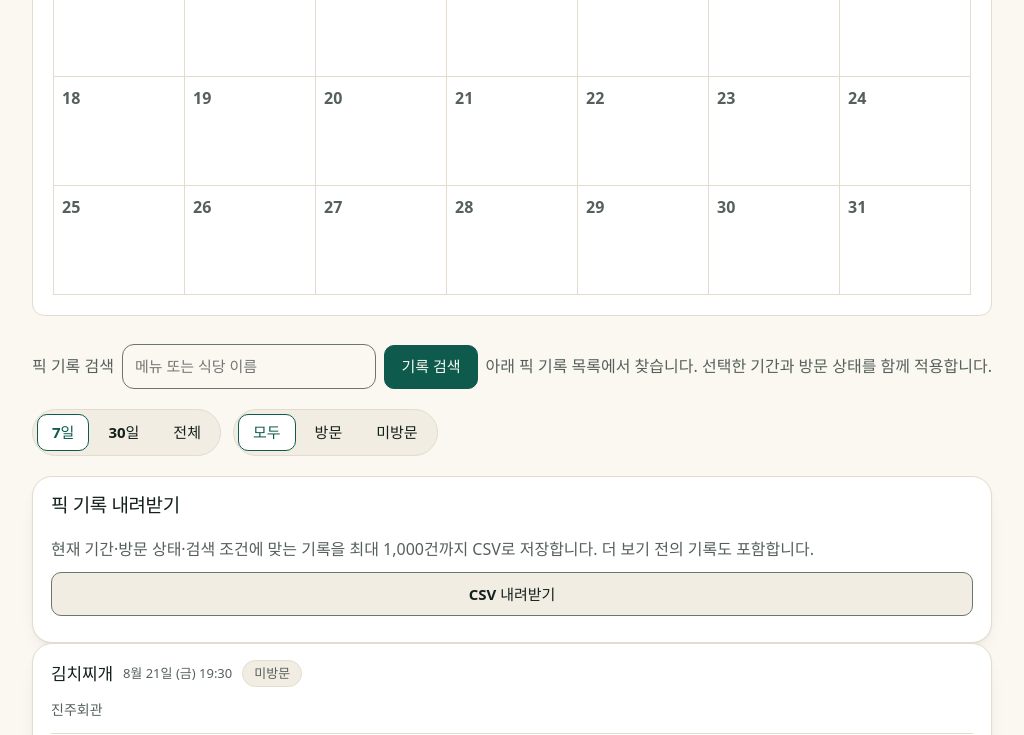
Test: 픽 기록 이름 검색 › 검색 결과의 다음 페이지에도 같은 검색어를 보내며 다른 검색은 첫 페이지부터 조회한다
The image size is (1024, 735).
(page scrolled)
Check: the text "김치찌개" is shown, box [51, 660, 113, 688]
Type "김치" into the search field.
click(249, 367); type("김치")  # box [122, 344, 376, 389]
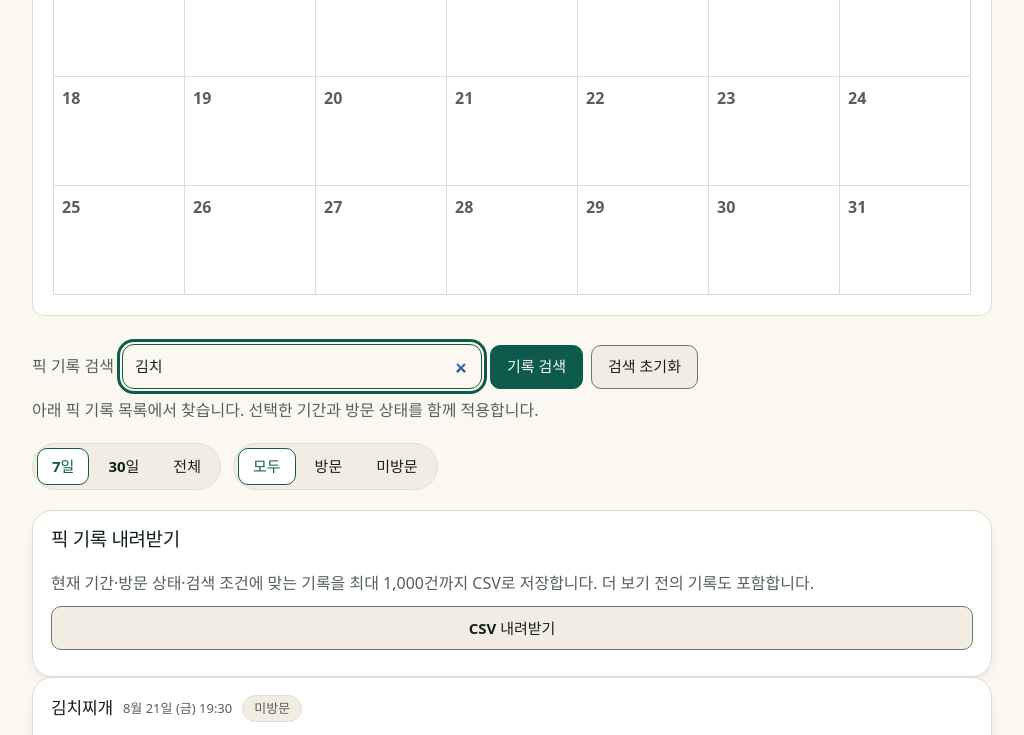
Click the button "기록 검색".
click(536, 367)  # box [490, 345, 583, 389]
(page scrolled)
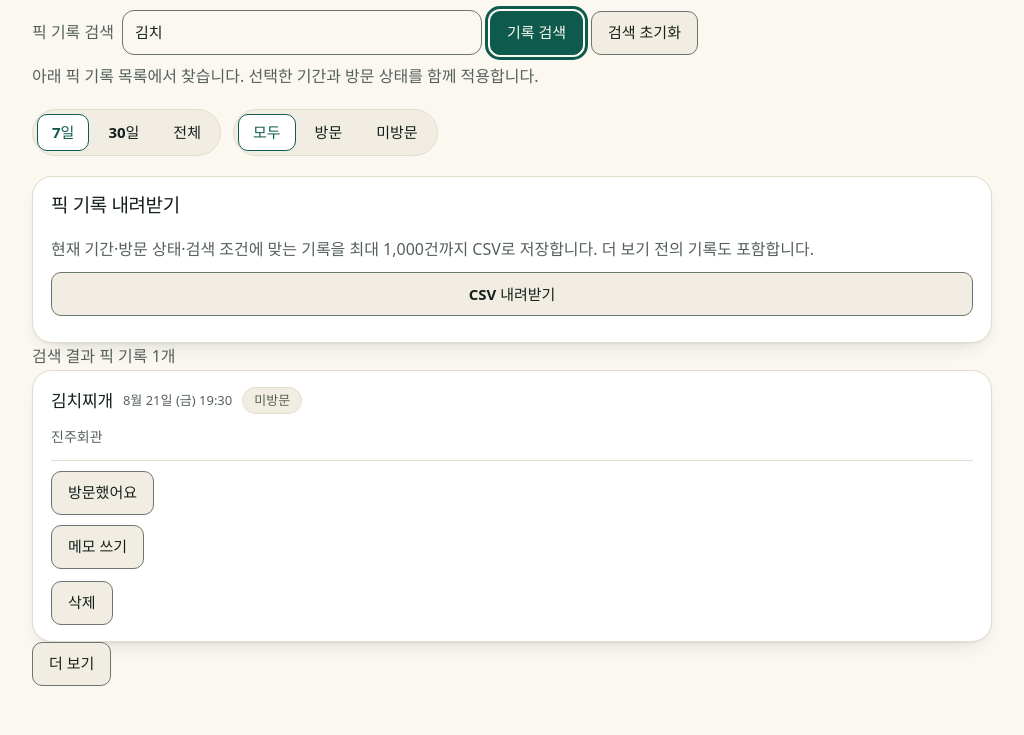
Click the button "더 보기".
click(72, 664)  # box [32, 642, 111, 686]
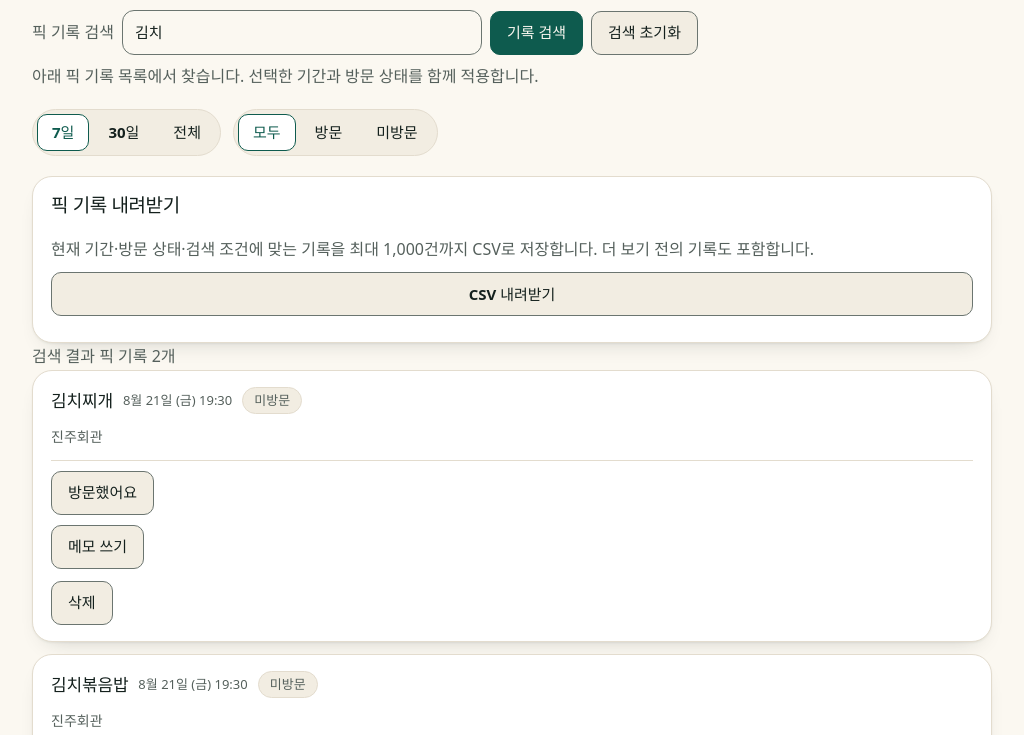
Check: the text "김치볶음밥" is shown, box [51, 671, 128, 699]
Replace the text in the search field with "회관" at (302, 33), box [122, 10, 482, 55]
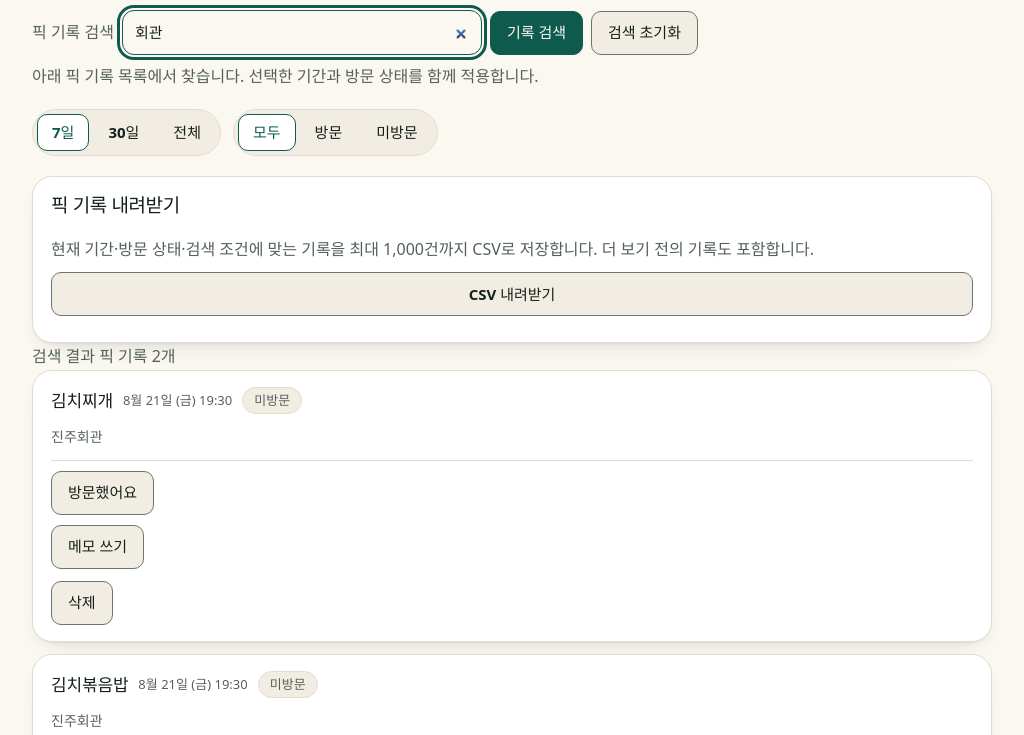
Click the button "기록 검색".
click(536, 33)  # box [490, 11, 583, 55]
(page scrolled)
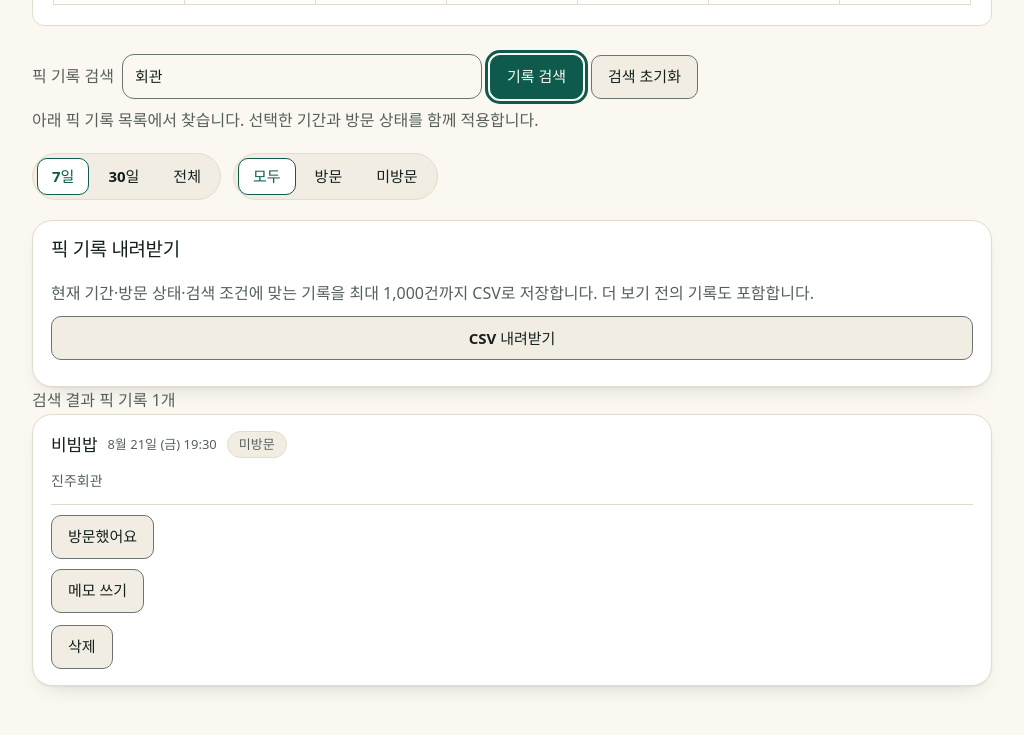
Check: the text "비빔밥" is shown, box [51, 431, 97, 459]
Check: the text "김치볶음밥" is gone
